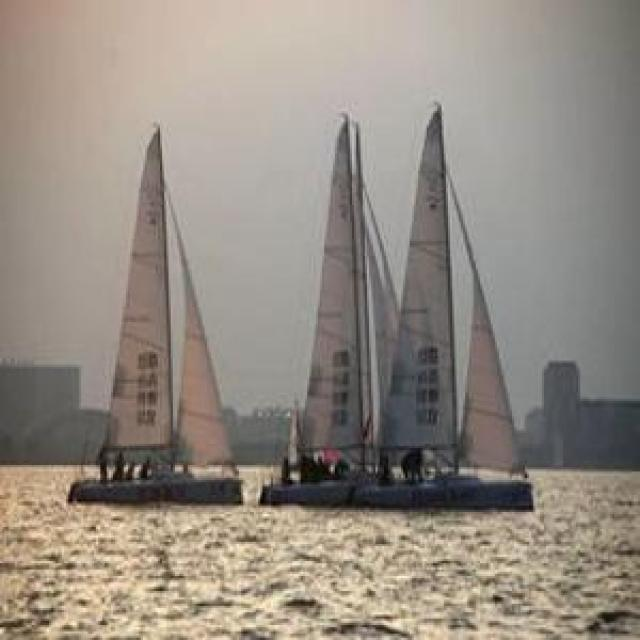sailboat: (256, 98, 556, 514), (62, 128, 247, 511)
